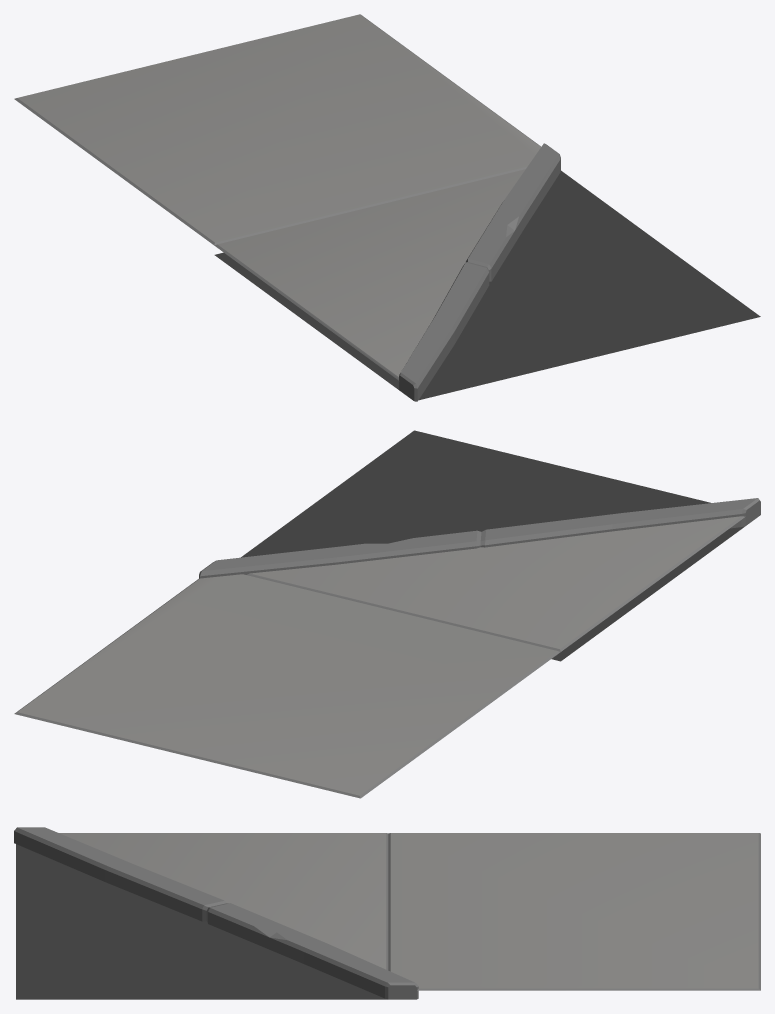
File: SM_Envr_Road_Sidewalk_Split_02.fbx
The picture shows the model from 3 angles, top to bottom: view 1: azimuth 30°, elevation 25°; view 2: azimuth 150°, elevation 25°; view 3: azimuth 270°, elevation 25°; orthographic projection. The views are drawn at different scales.
Parts seen in each view (by area): view 1: SM_Envr_Road_Sidewalk_Split_02; view 2: SM_Envr_Road_Sidewalk_Split_02; view 3: SM_Envr_Road_Sidewalk_Split_02.
Part boxes in pixels (x1,y1,x2,y2): SM_Envr_Road_Sidewalk_Split_02: [14, 14, 760, 401]; SM_Envr_Road_Sidewalk_Split_02: [14, 430, 760, 798]; SM_Envr_Road_Sidewalk_Split_02: [14, 827, 760, 999].
Bounding box in the file's own units: 500 × 23.33 × 1003.
